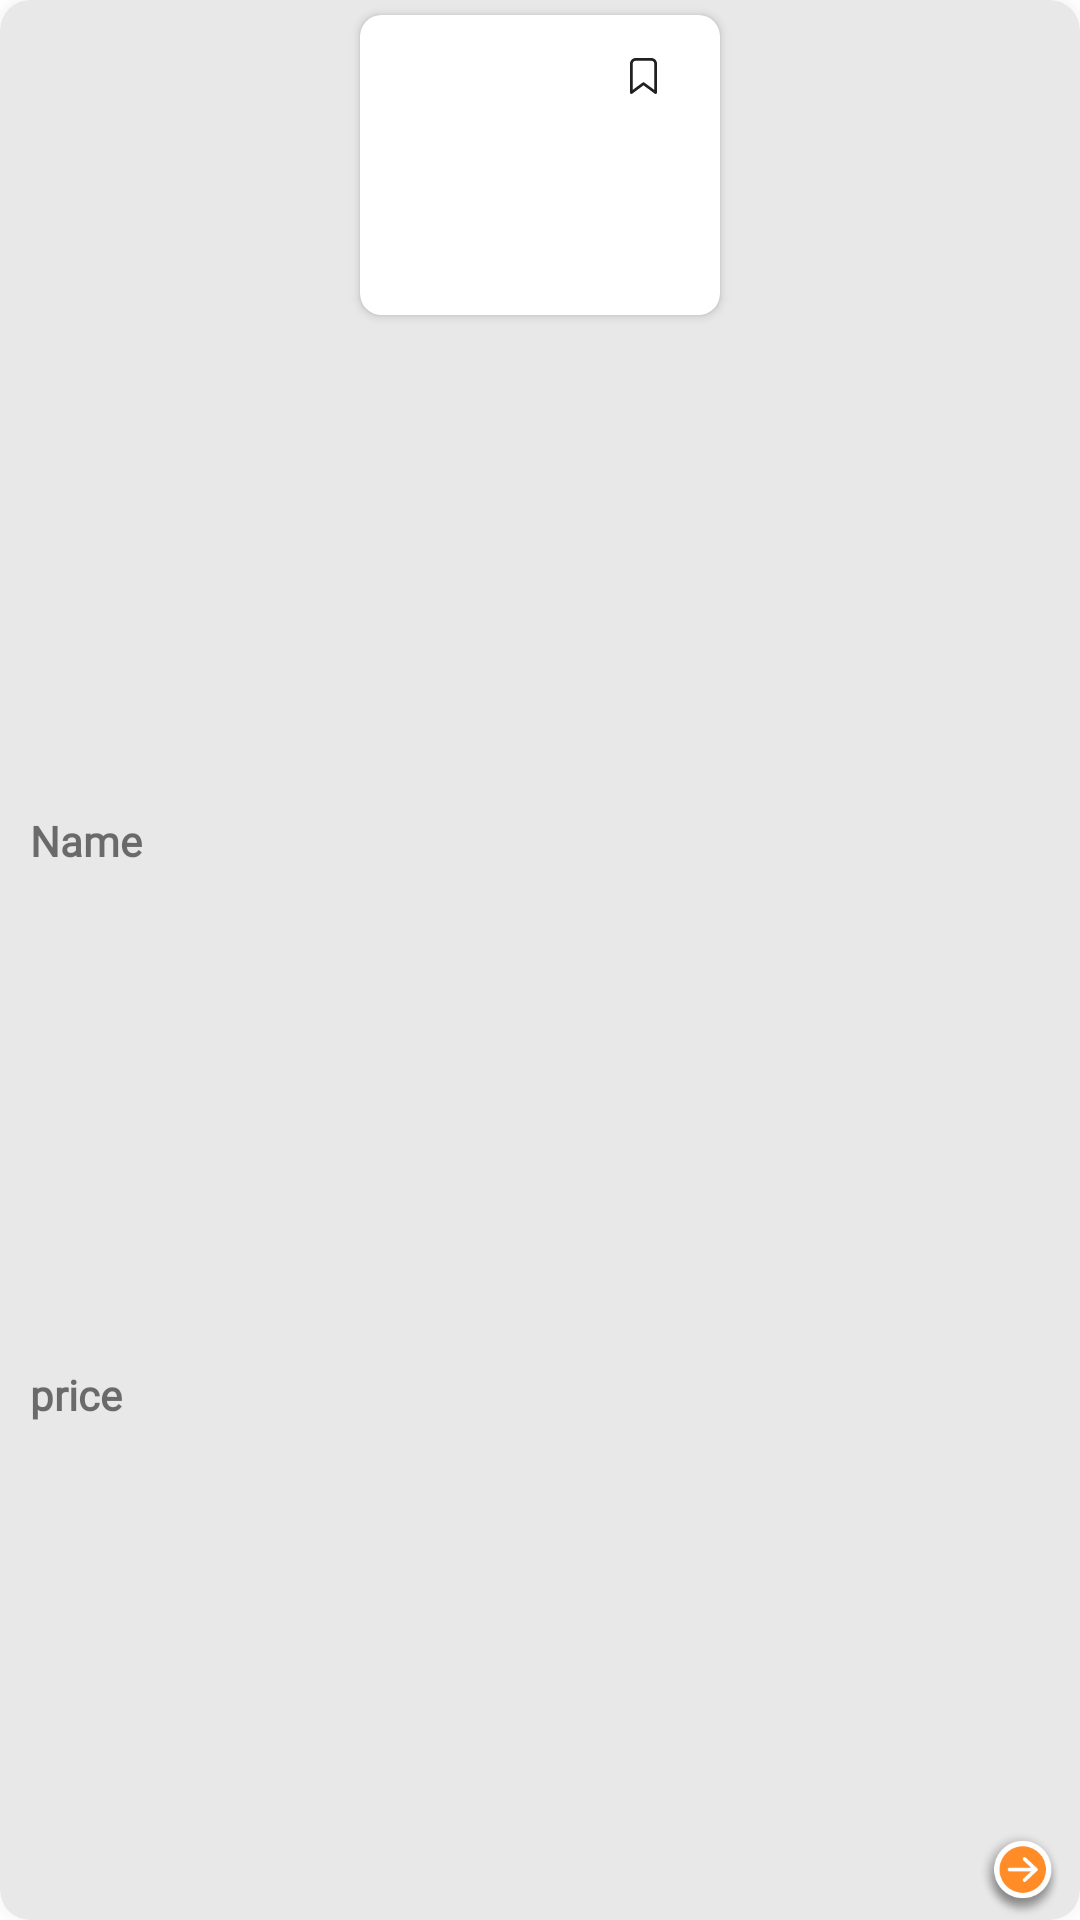

Named icons in this screenshot (1080 x 1920) and their centers, (x=x, y=y):
arrow next: (x=1021, y=1875)
wish list: (x=643, y=76)
